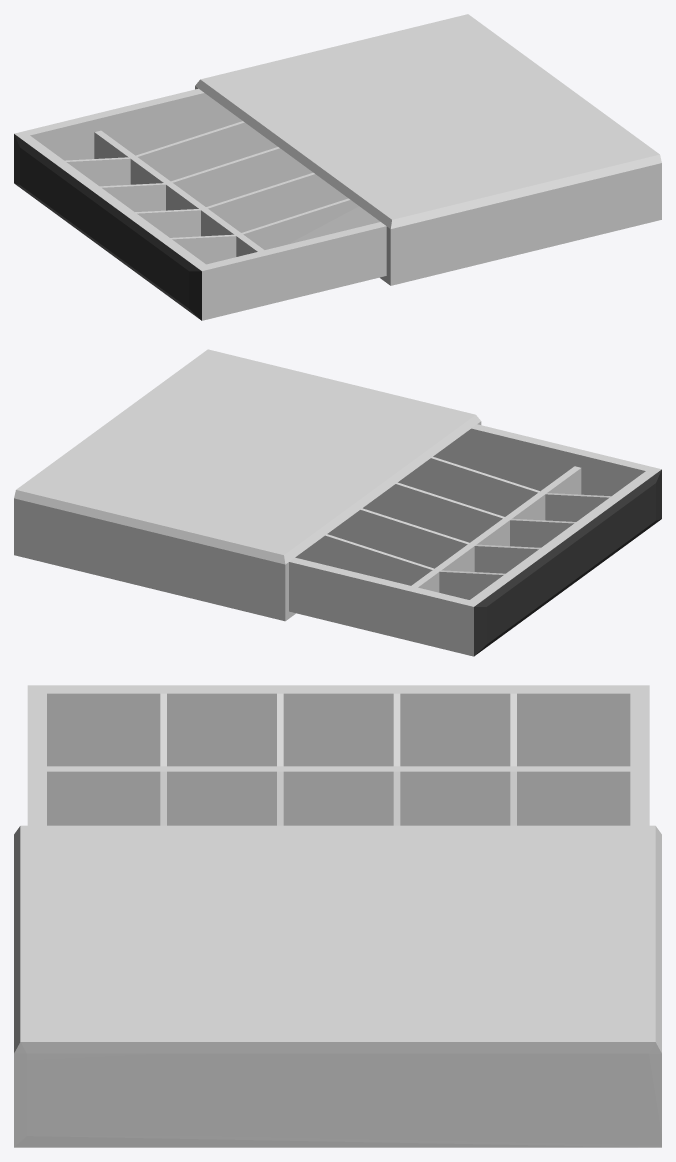
Rendered from CashRegister 1.fbx.
3 renders of one model, top to bottom at view 1: azimuth 30°, elevation 25°; view 2: azimuth 150°, elevation 25°; view 3: azimuth 270°, elevation 25°, orthographic. The views are drawn at different scales.
Visible parts, largest first — view 1: Body, Box; view 2: Body, Box; view 3: Body, Box.
Boxes of the visible parts, left/top/right/bottom form: Body: left=195, top=14, right=661, bottom=285; Box: left=14, top=88, right=386, bottom=320; Body: left=14, top=349, right=481, bottom=621; Box: left=289, top=424, right=661, bottom=656; Body: left=14, top=825, right=661, bottom=1147; Box: left=27, top=685, right=649, bottom=825.
Size of the model in its own units: 2711 by 360 by 2000.
